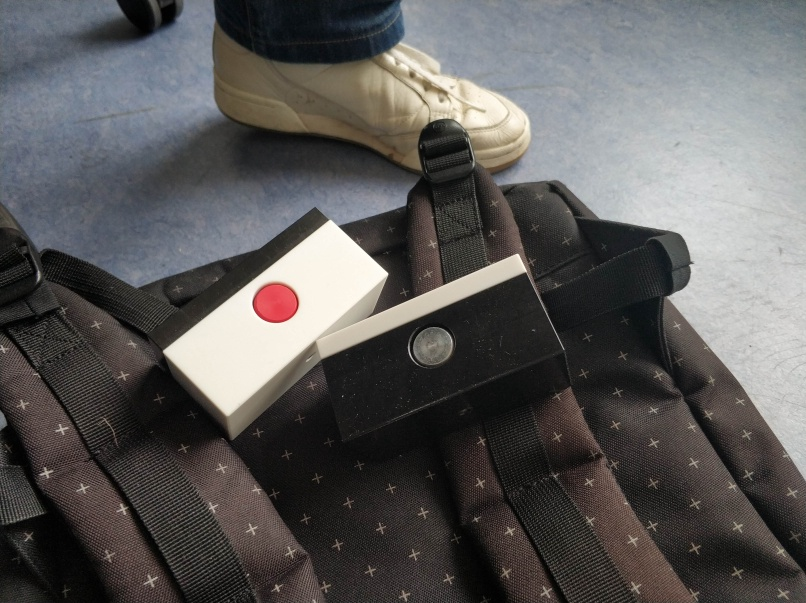black+white+red: (146, 203, 390, 447)
white+black+silver: (315, 251, 576, 464)
